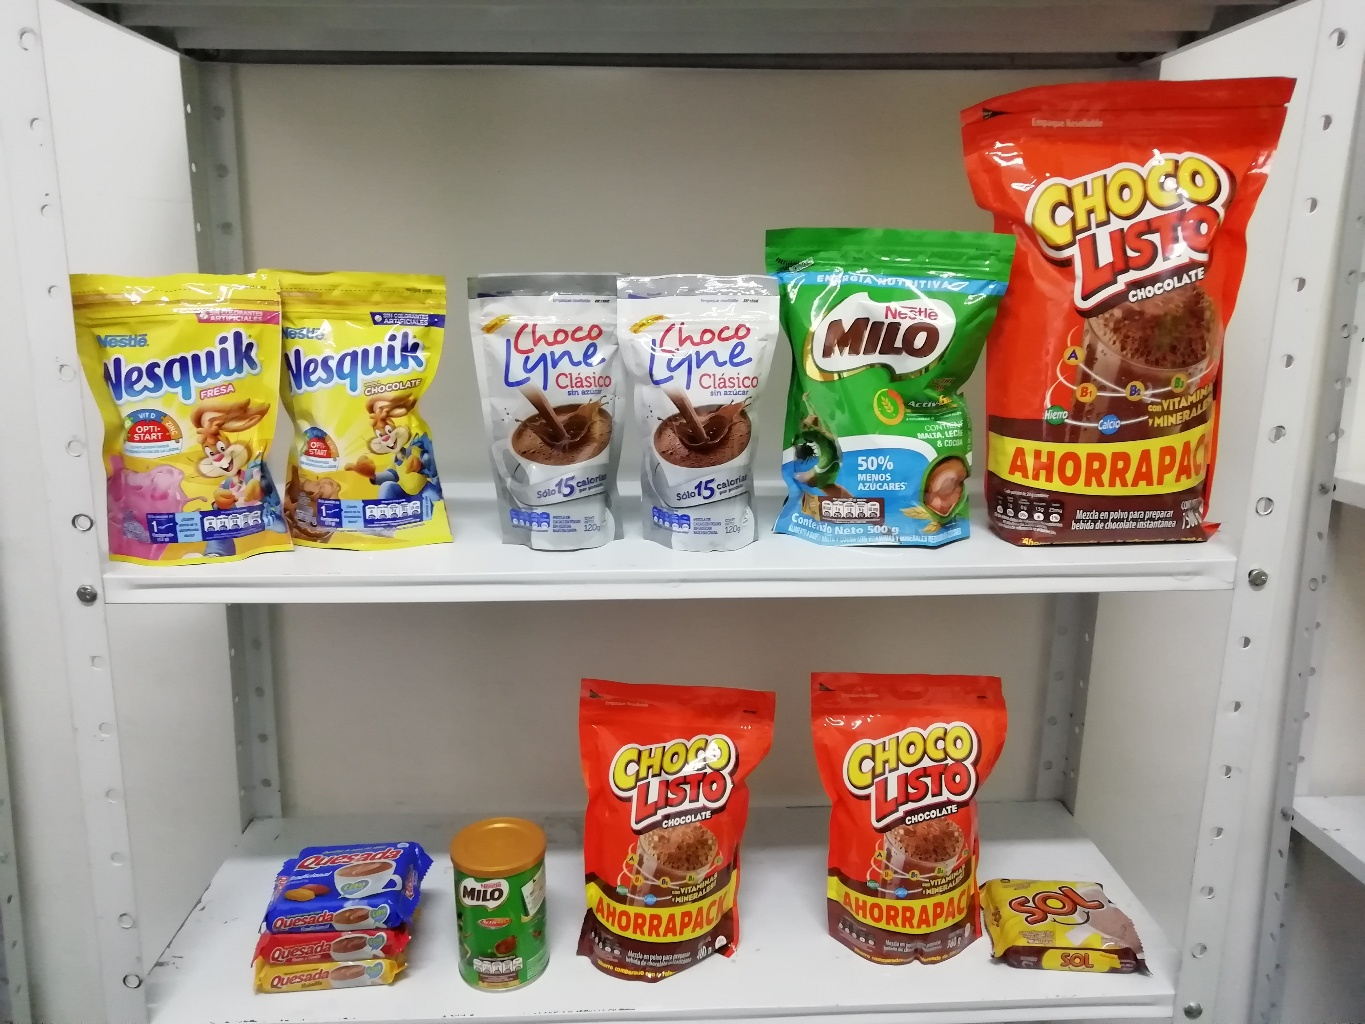COL0170103DYP1,500: (956, 73, 1309, 558)
COL0170103DYP36000: (802, 665, 1010, 968)
COL0170103DYP40000: (571, 671, 776, 989)
COL0170203LAT20000: (440, 809, 560, 996)
COL0170205DYP50000: (759, 221, 989, 553)
COL0170303DYP20000: (257, 259, 459, 549)
COL0170305DYP20000: (62, 259, 301, 568)
